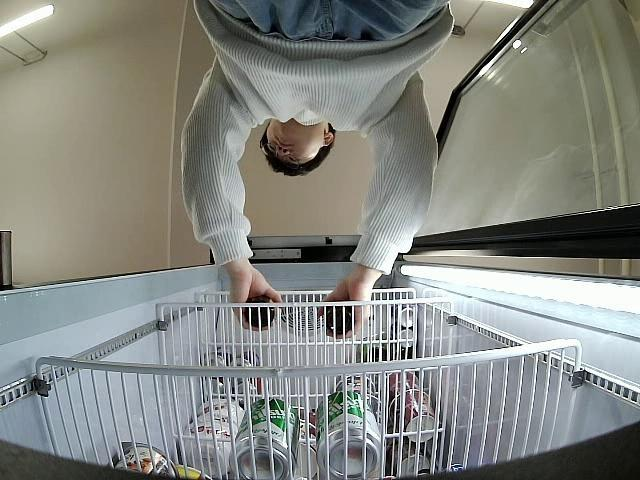17_vita500: (244, 296, 276, 330), (324, 306, 356, 336)
